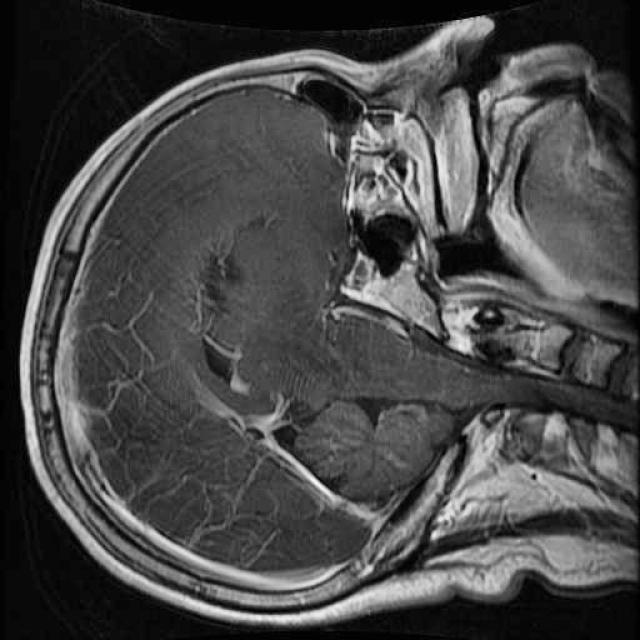Non-Tumor: (181, 196, 296, 321)
